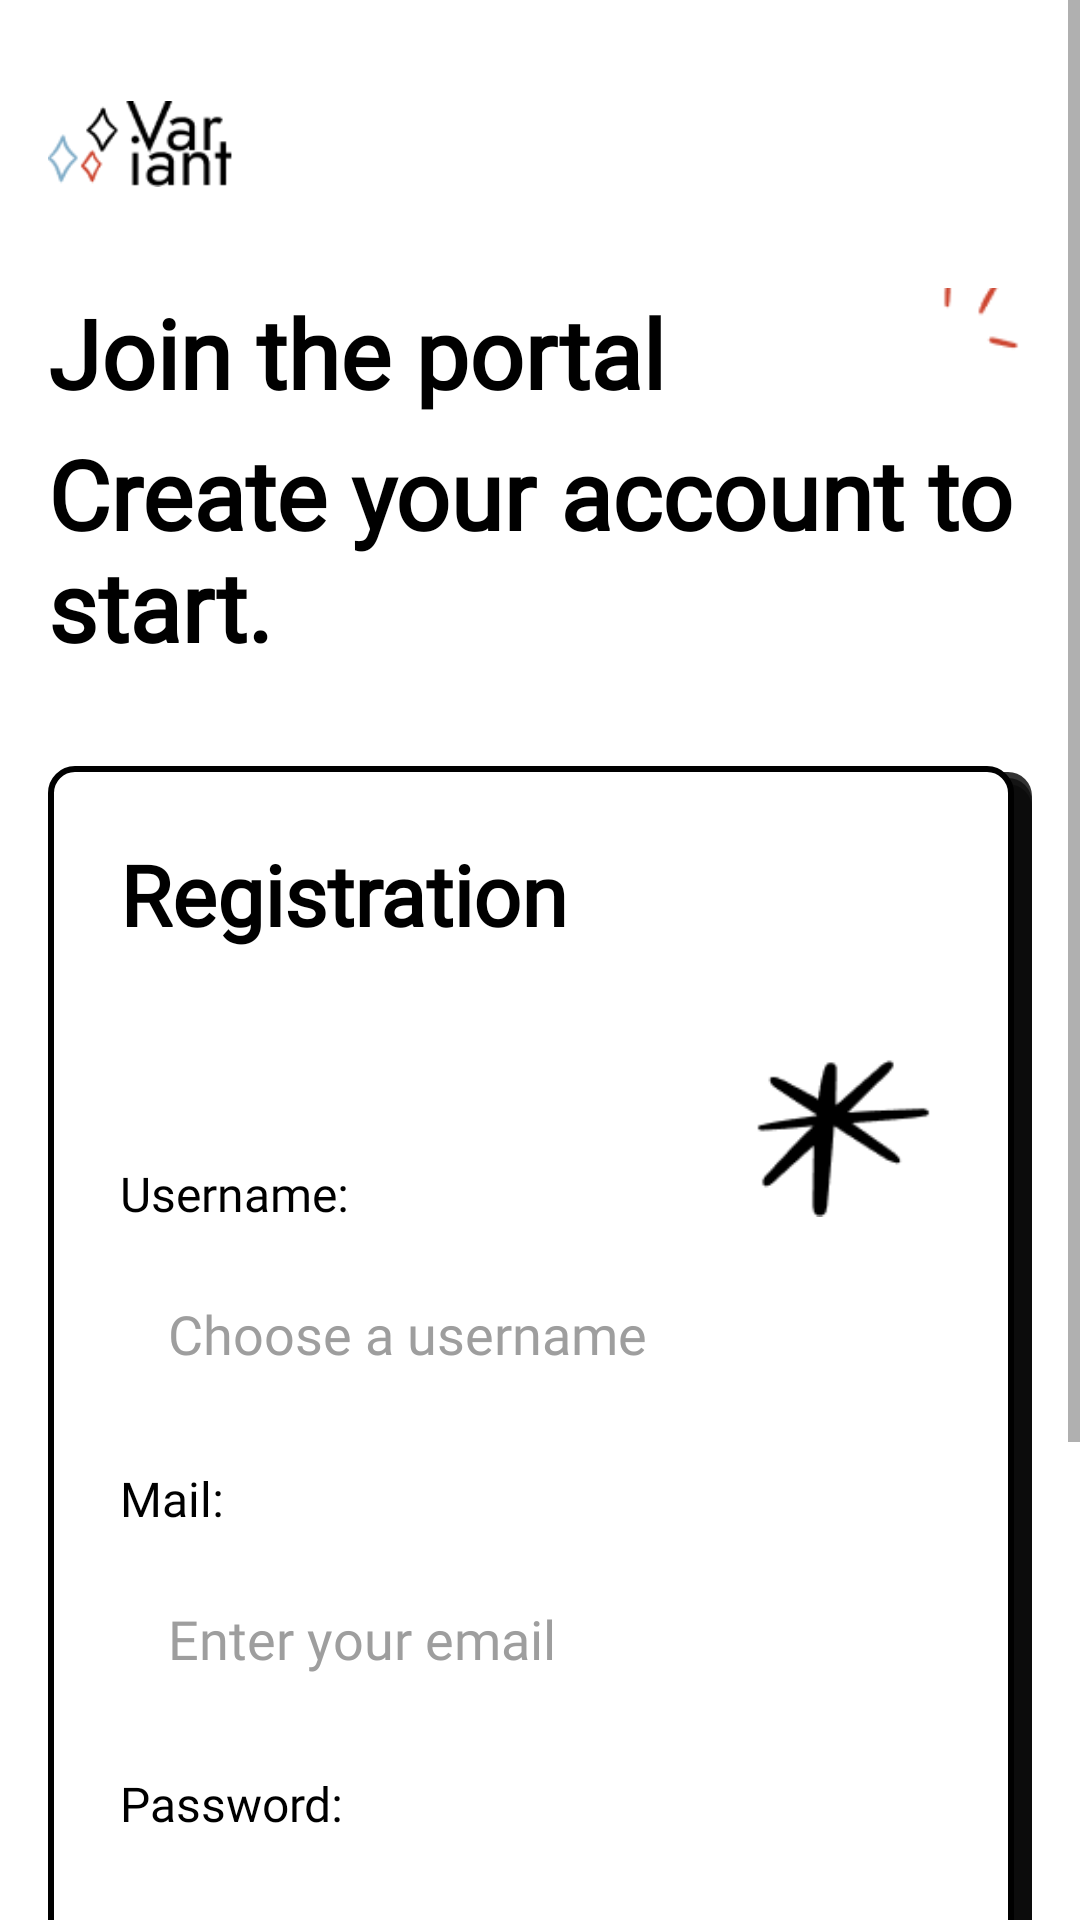

Icon click points for this 1080×1920 phone screenshot, format point (x, y):
star: point (843, 1138)
